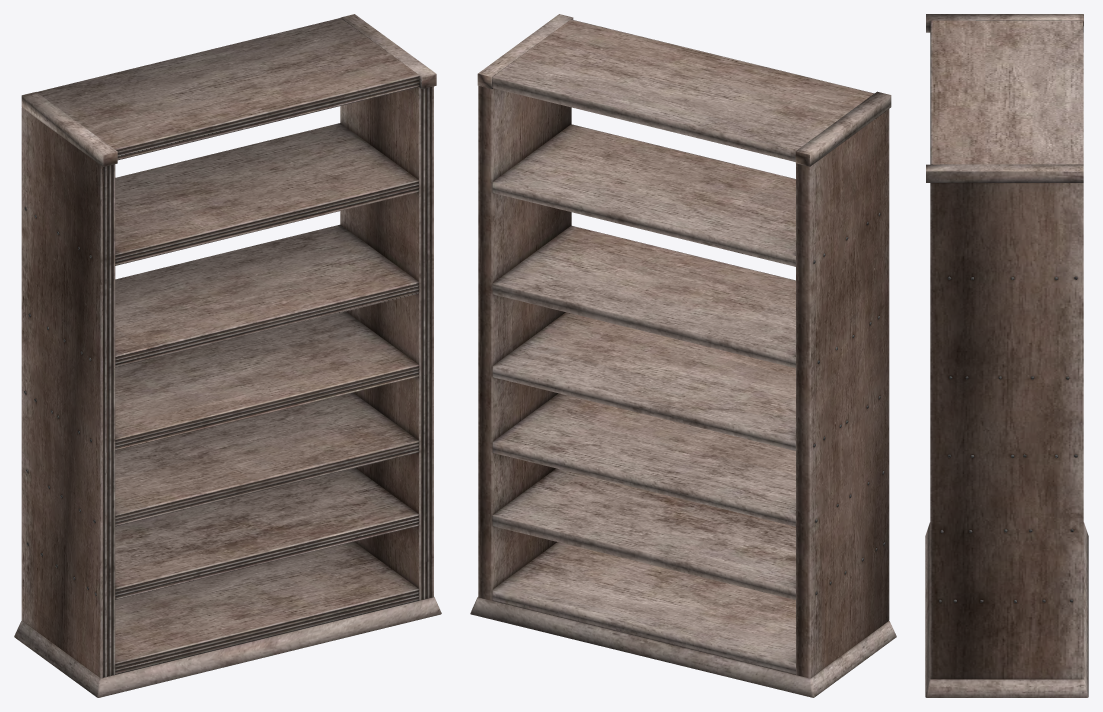
File: wooden_bookshelf_worn.glb
3 renders of one model, left to right at view 1: azimuth 30°, elevation 25°; view 2: azimuth 150°, elevation 25°; view 3: azimuth 270°, elevation 25°, orthographic. The views are drawn at different scales.
Visible parts, largest first — view 1: wooden_bookshelf_worn; view 2: wooden_bookshelf_worn; view 3: wooden_bookshelf_worn.
Part boxes in pixels (x1=…): wooden_bookshelf_worn: x1=14, y1=14, x2=441, y2=697; wooden_bookshelf_worn: x1=470, y1=14, x2=896, y2=697; wooden_bookshelf_worn: x1=925, y1=14, x2=1088, y2=697.
Size of the model in its own units: 1.37 by 2.06 by 0.5814.
1 material, 1 textured.
